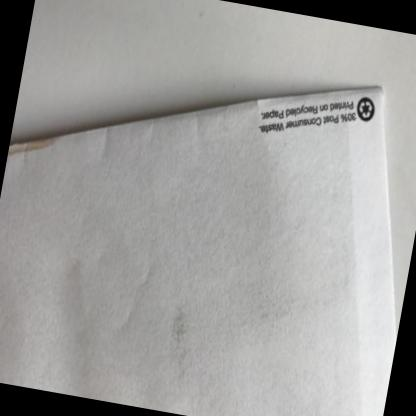Paper: (0, 86, 395, 416)
